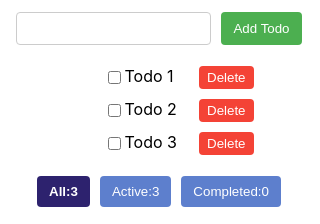
Scenario: TodoList › deletes a todo when delete button is clicked
Click the button "Delete" next to "Todo 1". click: (226, 78)
box: 199,66 -> 254,89
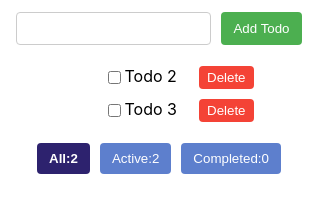
Expected: the number of list items is 2, 100,61 -> 259,94; 100,94 -> 259,127
